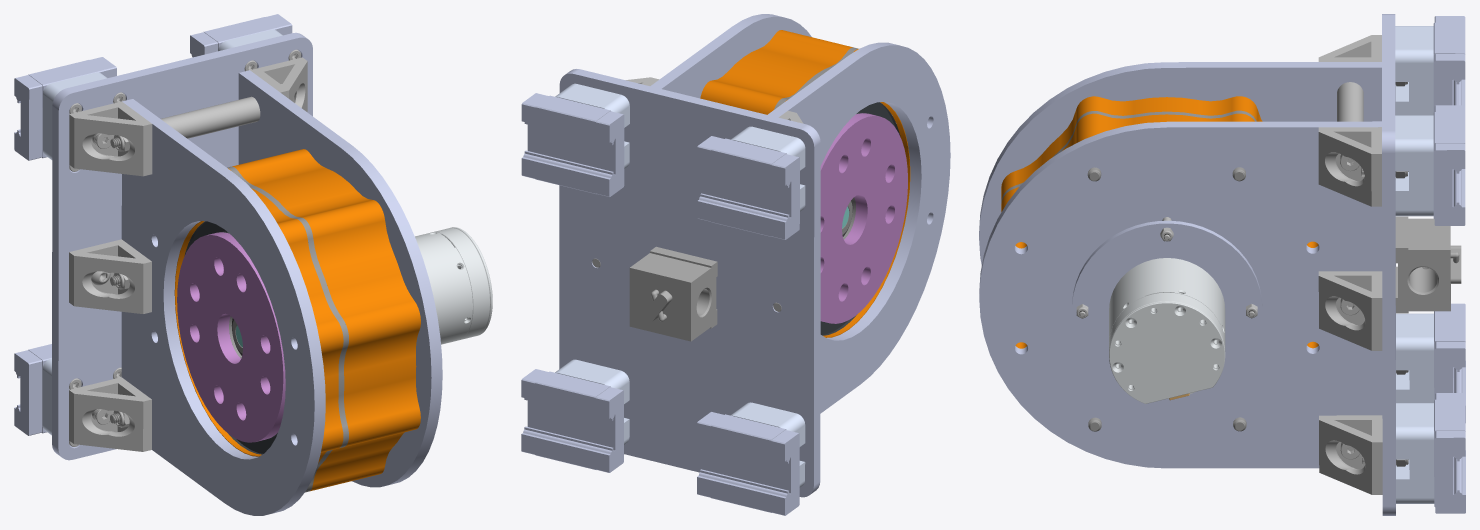
File: Arm Base.glb
The picture shows the model from 3 angles, left to right: view 1: azimuth 30°, elevation 25°; view 2: azimuth 150°, elevation 25°; view 3: azimuth 270°, elevation 25°; orthographic projection. The views are drawn at different scales.
Parts seen in each view (by area): view 1: Arm Base; view 2: Arm Base; view 3: Arm Base.
Boxes of the visible parts, box(x1,y1,x2,y2) form: Arm Base: box(14, 14, 492, 515); Arm Base: box(521, 14, 950, 515); Arm Base: box(979, 14, 1465, 515).
Bounding box in the file's own units: 0.1757 × 0.2 × 0.2301.
